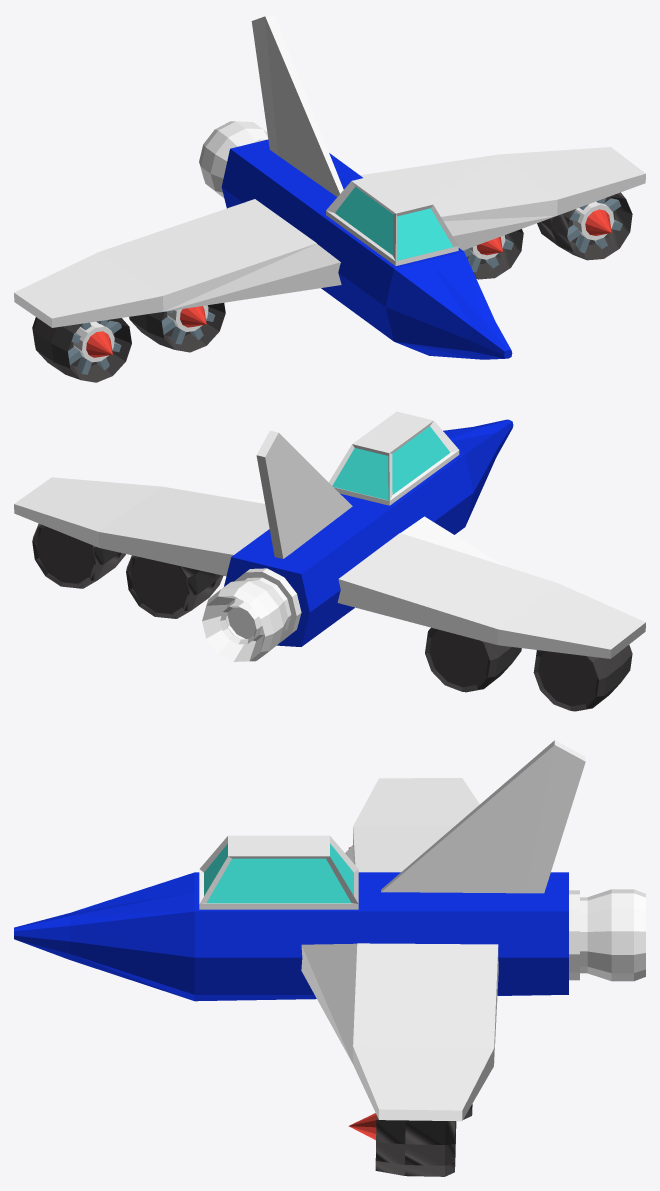
File: Jet.fbx
3 renders of one model, top to bottom at view 1: azimuth 30°, elevation 25°; view 2: azimuth 150°, elevation 25°; view 3: azimuth 270°, elevation 25°, orthographic. The views are drawn at different scales.
Visible parts, largest first — view 1: jet; view 2: jet; view 3: jet.
Boxes of the visible parts, <box> form: jet: <box>14,14,645,382</box>; jet: <box>14,411,645,711</box>; jet: <box>14,740,645,1176</box>.
Size of the model in its own units: 406 by 165 by 326.
